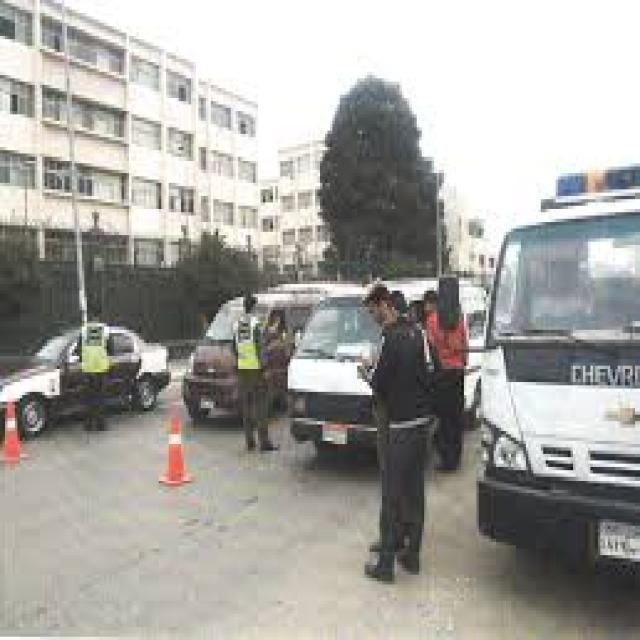car: (285, 274, 386, 516), (0, 320, 169, 441)
person: (359, 288, 468, 558), (231, 290, 280, 450)
police-car: (488, 111, 640, 587)
